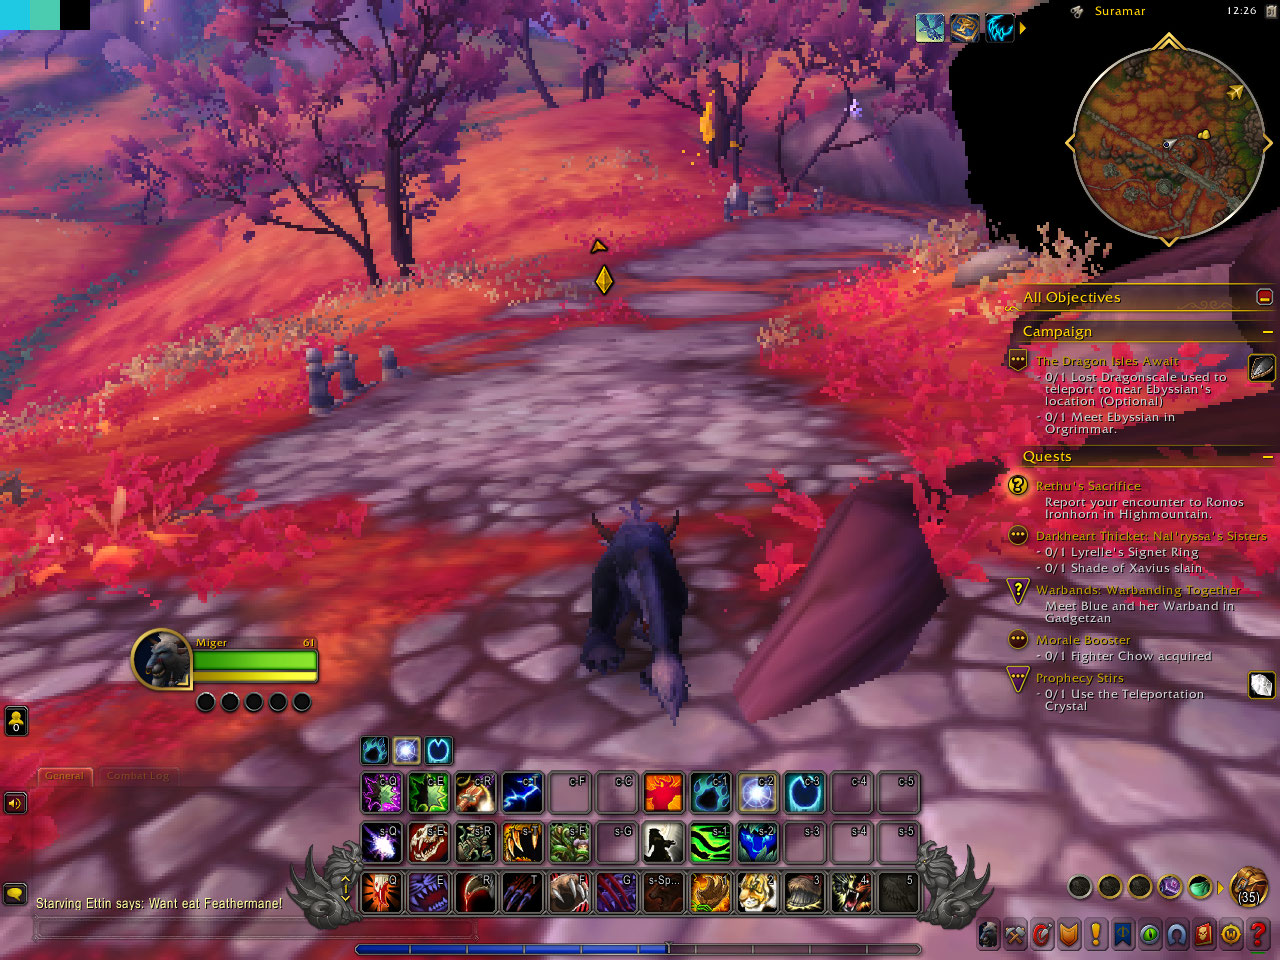ore: (840, 92, 868, 120)
